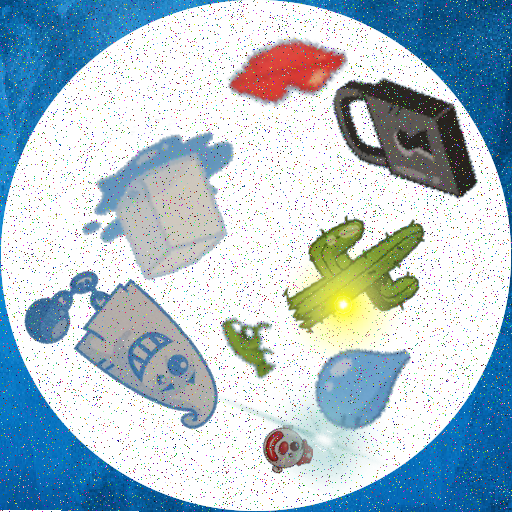cactus_icon: (269, 187, 437, 355)
clown_icon: (261, 425, 313, 477)
cube_icon: (77, 119, 266, 308)
dino_icon: (211, 313, 281, 383)
ghost_icon: (19, 239, 242, 462)
lips_icon: (225, 3, 348, 126)
lock_icon: (326, 59, 486, 219)
raindrop_icon: (310, 330, 418, 438)
